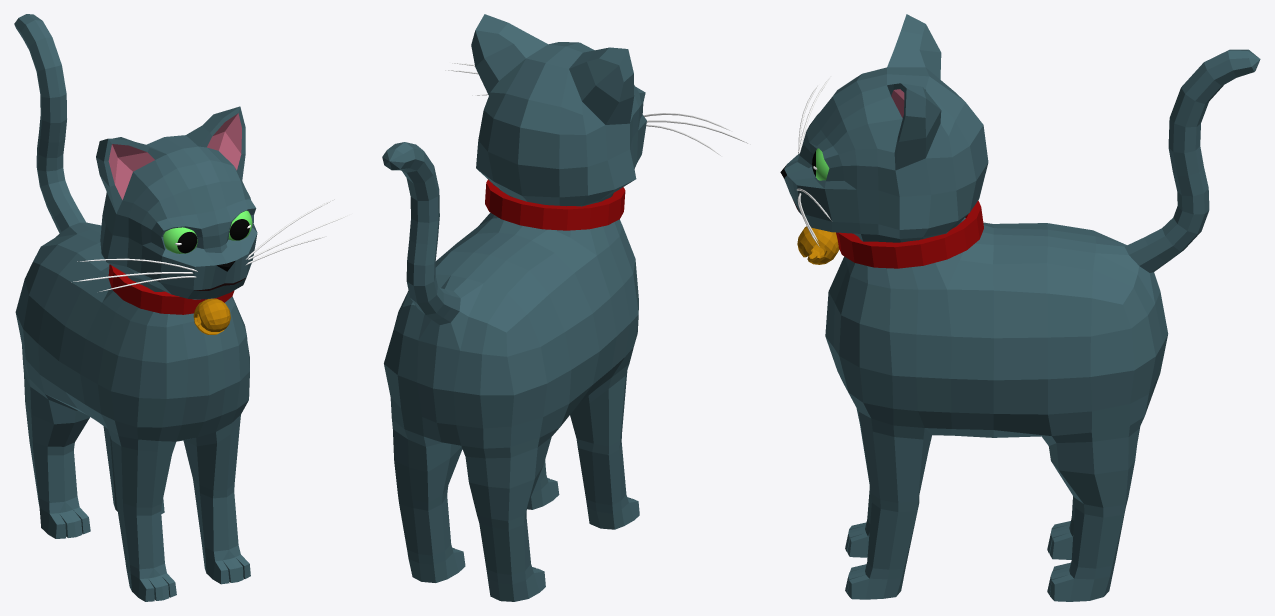
The model's file is cat4.fbx.
3 views of the same model, side by side, from view 1: azimuth 30°, elevation 25°; view 2: azimuth 150°, elevation 25°; view 3: azimuth 270°, elevation 25° (orthographic). The views are drawn at different scales.
Parts seen in each view (by area): view 1: Box005, Tube002, Line002, Sphere005, Box006; view 2: Box005, Tube002, Line002; view 3: Box005, Tube002, Box006, Line002.
Part boxes in pixels (bbox=[...]): Box005: bbox=[14, 14, 257, 601]; Tube002: bbox=[108, 264, 234, 314]; Line002: bbox=[71, 199, 352, 291]; Sphere005: bbox=[163, 210, 252, 253]; Box006: bbox=[193, 298, 230, 334]; Box005: bbox=[382, 14, 646, 601]; Tube002: bbox=[485, 179, 625, 230]; Line002: bbox=[445, 63, 748, 155]; Box005: bbox=[780, 14, 1260, 601]; Tube002: bbox=[836, 200, 983, 268]; Box006: bbox=[797, 226, 839, 264]; Line002: bbox=[796, 75, 831, 246].
Size of the model in its own units: 71.53 by 109 by 90.95.
